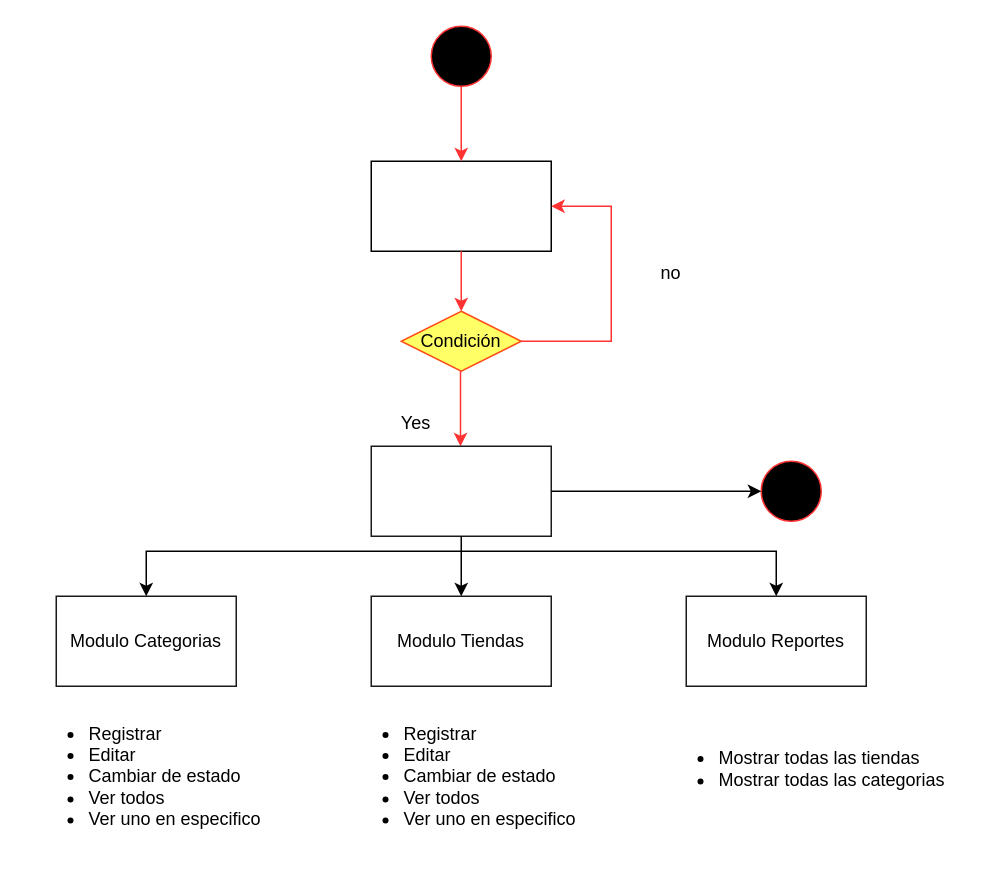
Image size: 981x878. Some labels were removed from this diagram. The shapes that lost their labels are listed below. From the top down, each one's centre as x and y in pixels, then its label:
At [460,205]: "Inicio de sesión".
At [460,490]: "Pagina de inicio".
